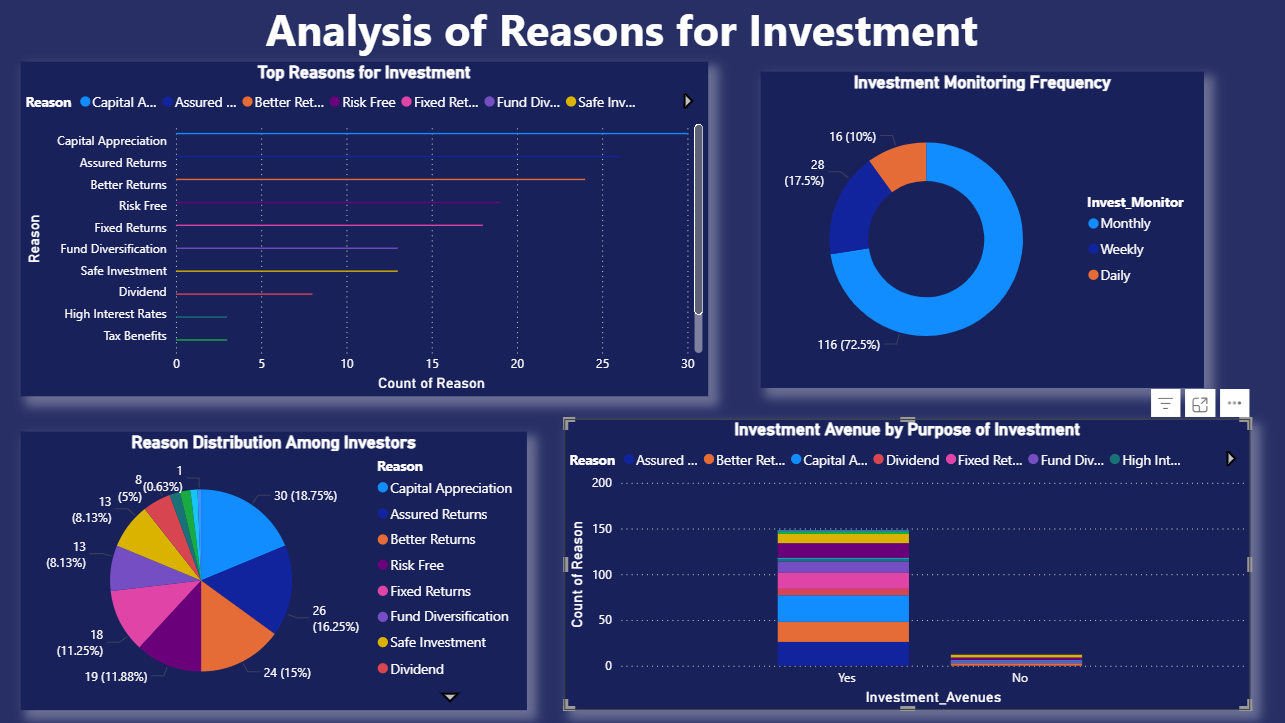

The page's visual inventory and layout, read from the dashboard file:
{"tool":"powerbi","page":{"name":"Reason For  Investment","canvas":[1280,720],"ordinal":4},"visuals":[{"type":"textbox","box":[9.8,0,1214.7,83.4],"z":0},{"type":"clusteredBarChart","title":"Top Reasons for Investment","fields":{"Category":["Data_set 2.Reason"],"Series":["Data_set 2.Reason"],"Y":["CountNonNull(Data_set 2.Reason)"]},"box":[27,66.3,674.9,328.8],"z":1000},{"type":"columnChart","title":"Investment Avenue by Purpose of Investment","fields":{"Category":["Data_set 2.Investment_Avenues"],"Y":["CountNonNull(Data_set 2.Reason)"],"Series":["Data_set 2.Reason"]},"box":[560.7,417.2,673.6,285.9],"z":2000},{"type":"pieChart","title":"Reason Distribution Among Investors","fields":{"Category":["Data_set 2.Reason"],"Series":["Data_set 2.Reason"],"Y":["CountNonNull(Data_set 2.Reason)"]},"box":[27,429.5,496.9,273.6],"z":3000},{"type":"donutChart","title":"Investment Monitoring Frequency","fields":{"Category":["Data_set 2.Invest_Monitor"],"Y":["CountNonNull(Data_set 2.Invest_Monitor)"]},"box":[753.4,76.1,435.6,310.4],"z":4000}]}

Visuals, with their boxes in screenshot pixels (x1, y1, x2, y2), scaled from the page's 1280x720 canvas onto the 1285x723 screenshot:
textbox: bbox(10, 0, 1229, 84)
"Top Reasons for Investment" clusteredBarChart: bbox(27, 67, 705, 397)
"Investment Avenue by Purpose of Investment" columnChart: bbox(563, 419, 1239, 706)
"Reason Distribution Among Investors" pieChart: bbox(27, 431, 526, 706)
"Investment Monitoring Frequency" donutChart: bbox(756, 76, 1194, 388)
